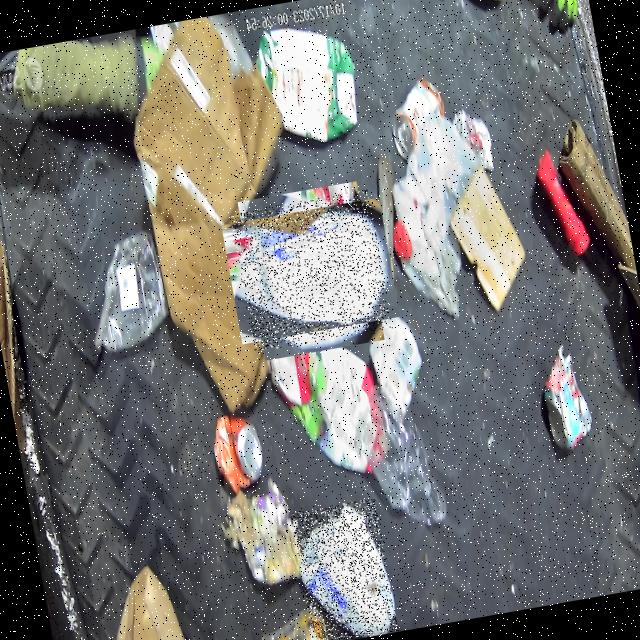milk-jug: (228, 188, 391, 351), (289, 496, 397, 640)
